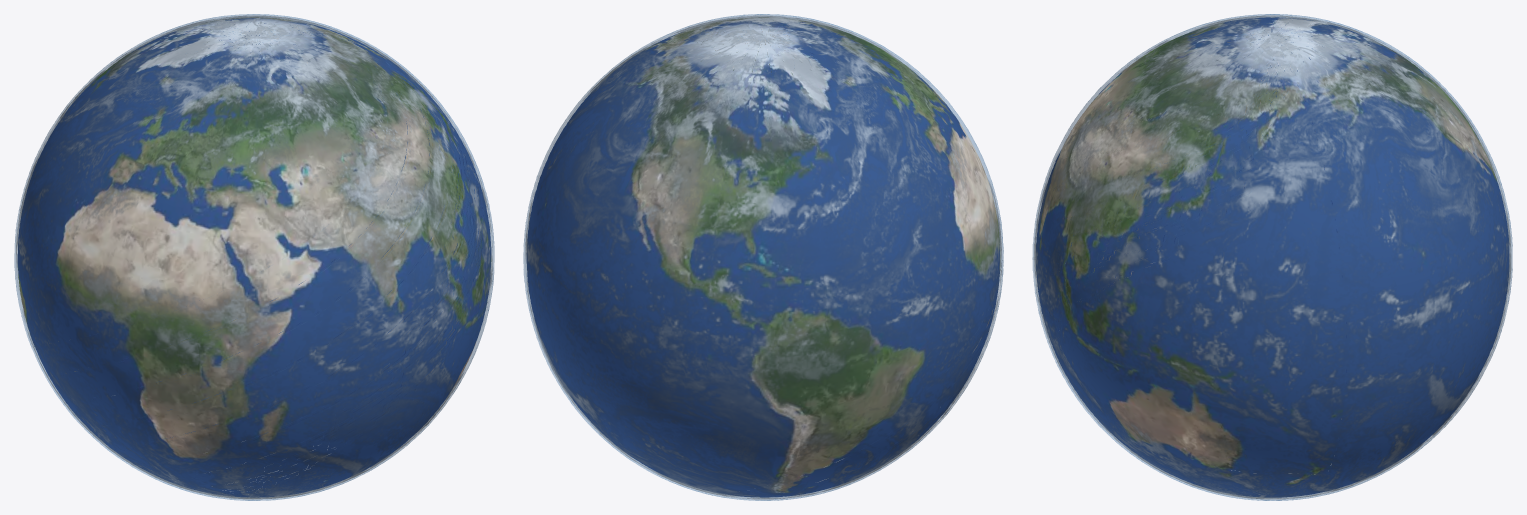
Rendered from earth-transformed.glb.
3 views of the same model, side by side, from view 1: azimuth 30°, elevation 25°; view 2: azimuth 150°, elevation 25°; view 3: azimuth 270°, elevation 25° (orthographic).
Visible parts, largest first — view 1: pSphere5_lambert7_0, pSphere1_phong1_0, pSphere4_lambert6_0; view 2: pSphere5_lambert7_0, pSphere1_phong1_0, pSphere4_lambert6_0; view 3: pSphere5_lambert7_0, pSphere1_phong1_0, pSphere4_lambert6_0.
Part boxes in pixels (x1=…): pSphere5_lambert7_0: x1=14, y1=14, x2=494, y2=500; pSphere1_phong1_0: x1=17, y1=17, x2=491, y2=497; pSphere4_lambert6_0: x1=16, y1=15, x2=492, y2=499; pSphere5_lambert7_0: x1=523, y1=14, x2=1003, y2=500; pSphere1_phong1_0: x1=526, y1=17, x2=1000, y2=497; pSphere4_lambert6_0: x1=525, y1=15, x2=1002, y2=499; pSphere5_lambert7_0: x1=1032, y1=14, x2=1512, y2=500; pSphere1_phong1_0: x1=1036, y1=17, x2=1509, y2=497; pSphere4_lambert6_0: x1=1034, y1=15, x2=1511, y2=499.
Size of the model in its own units: 192 by 196 by 192.
Materials: 3 (2 with a texture image).
